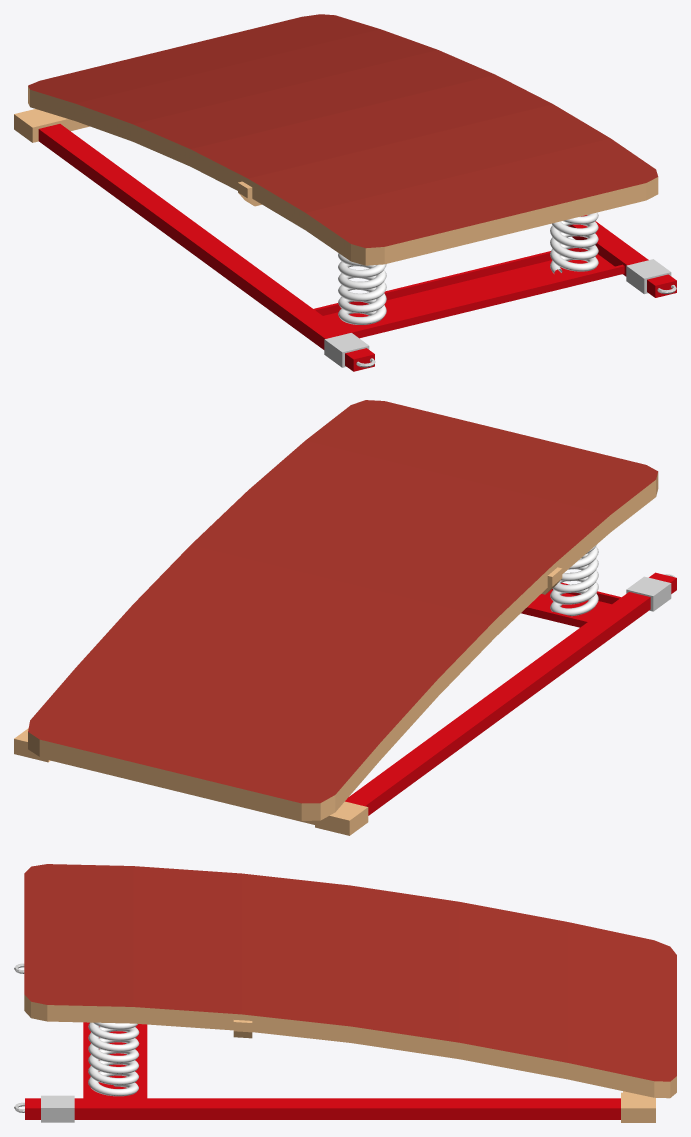
Rendered from Springboord.fbx.
3 renders of one model, top to bottom at view 1: azimuth 30°, elevation 25°; view 2: azimuth 150°, elevation 25°; view 3: azimuth 270°, elevation 25°, orthographic. The views are drawn at different scales.
Visible parts, largest first — view 1: Springboard_Plank, Springboard_Frame, Springboard_Spring; view 2: Springboard_Plank, Springboard_Frame, Springboard_Spring; view 3: Springboard_Plank, Springboard_Frame, Springboard_Spring.
Boxes of the visible parts, <box> form: Springboard_Plank: <box>28,14,658,265</box>; Springboard_Frame: <box>14,109,676,371</box>; Springboard_Spring: <box>338,212,598,324</box>; Springboard_Plank: <box>28,400,658,820</box>; Springboard_Frame: <box>14,572,676,835</box>; Springboard_Spring: <box>550,544,598,616</box>; Springboard_Plank: <box>24,864,676,1098</box>; Springboard_Frame: <box>14,963,655,1122</box>; Springboard_Spring: <box>88,1022,139,1096</box>.
Size of the model in its own units: 0.7462 by 0.2532 by 1.35.
